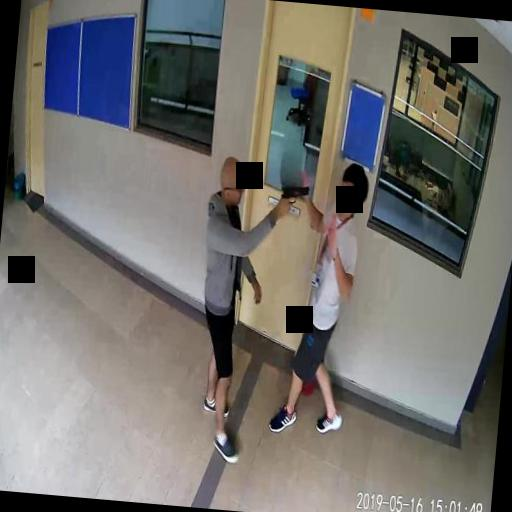Handgun: (278, 182, 308, 215)
